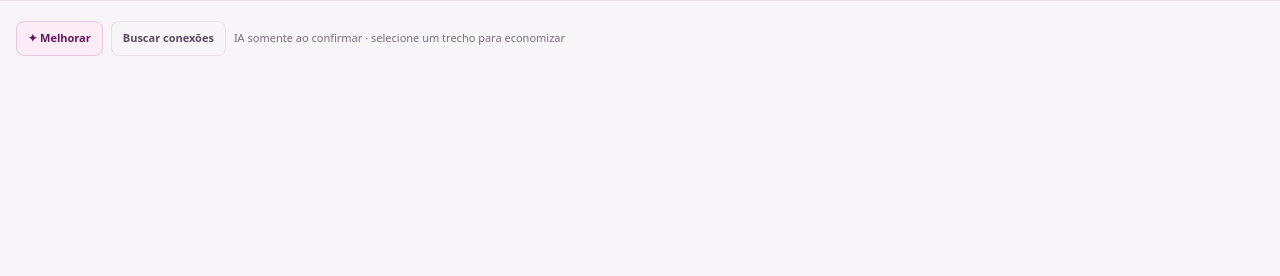
draft assistant › blocks a late response from replacing a newer draft
Click the button "✦ Melhorar" at (59, 38), box [16,21,103,56]
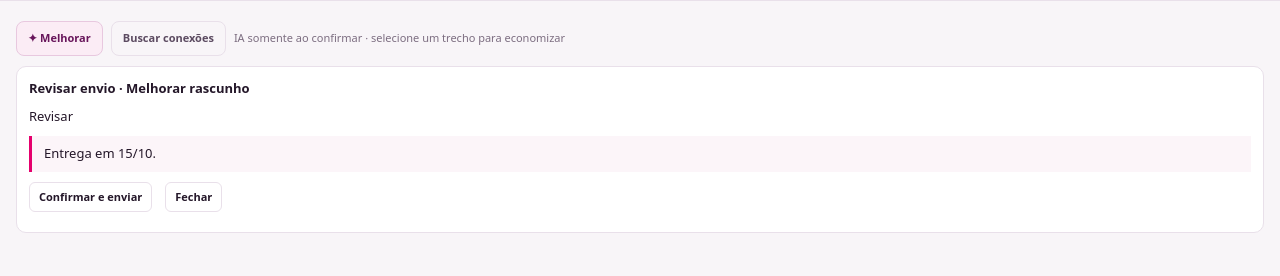
Click the button "Confirmar e enviar" at (91, 197), box [29,182,152,212]
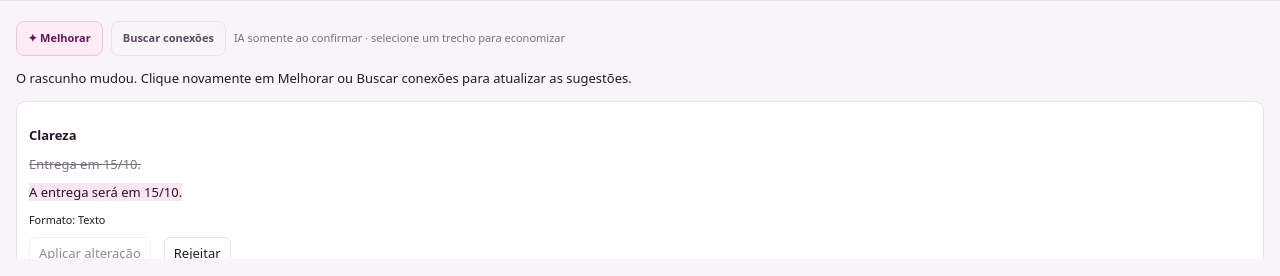
Result: the button "Aplicar alteração" is disabled at [29,237,151,259]
